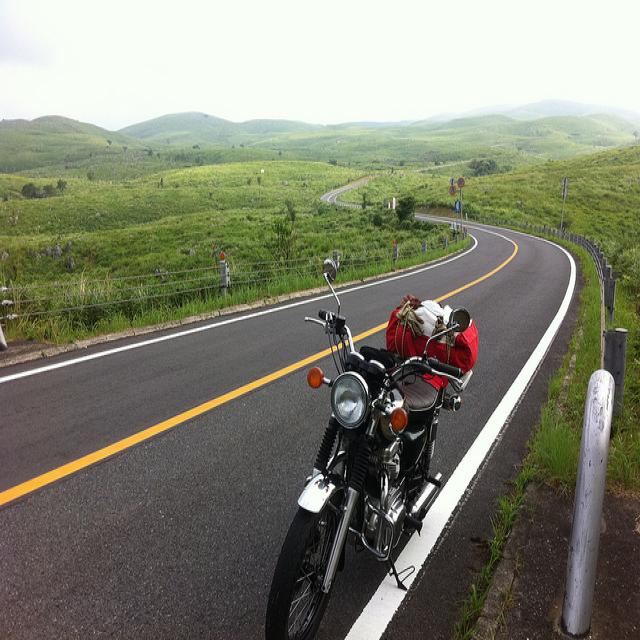motor: (265, 253, 476, 640)
